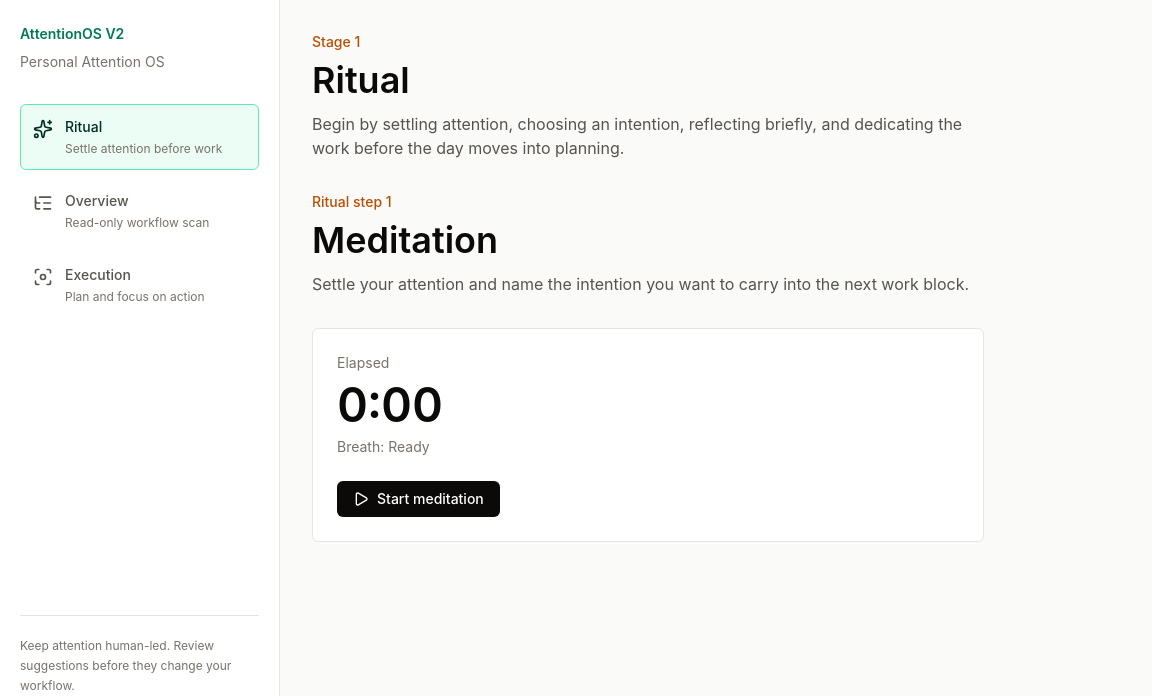
Scenario: RitualPage workflow › finishes dedication and transitions to overview
Click the button "Start meditation": (418, 499) [337, 481, 500, 517]
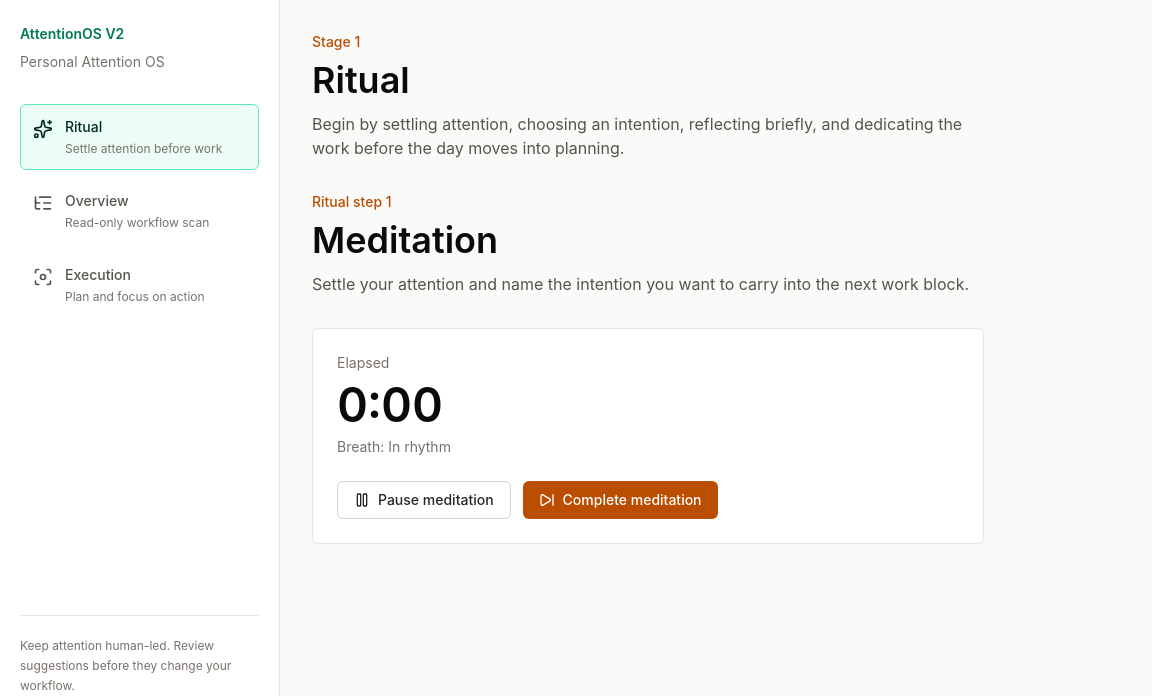
Click the button "Complete meditation": (620, 500) [523, 481, 718, 519]
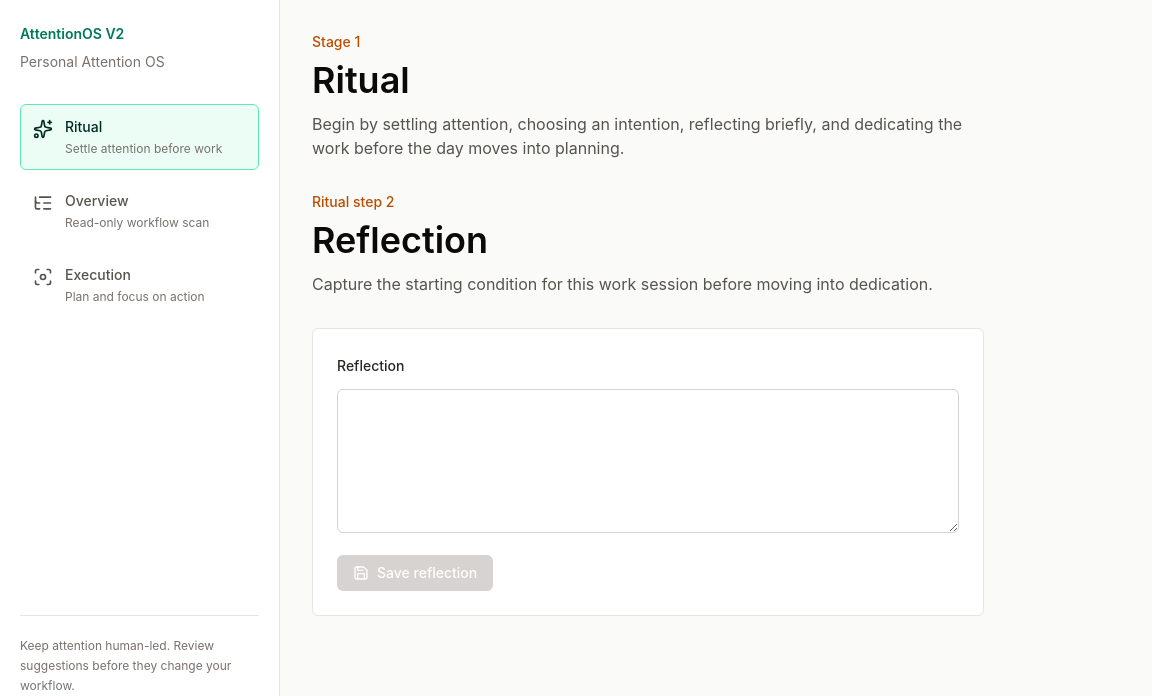
Expected: the heading "Reflection" is shown, [312, 218, 488, 262]
In the text box labelled "Reflection": (648, 461) [337, 389, 959, 533], type "Move deliberately."
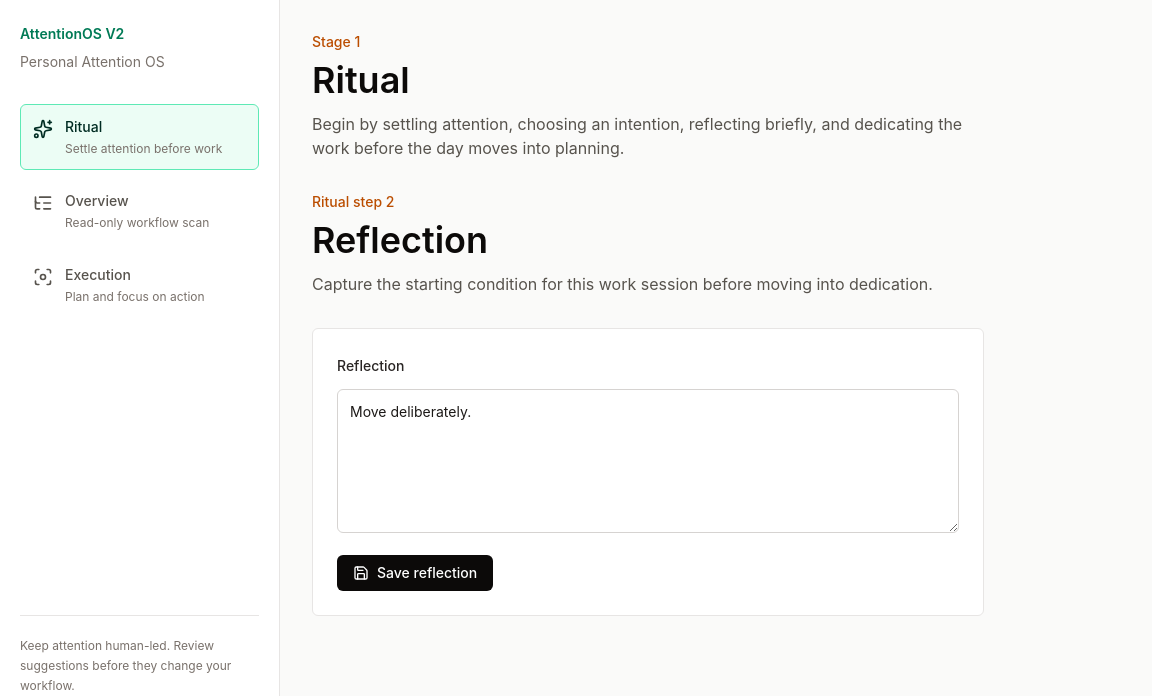
Click the button "Save reflection": (415, 573) [337, 555, 493, 591]
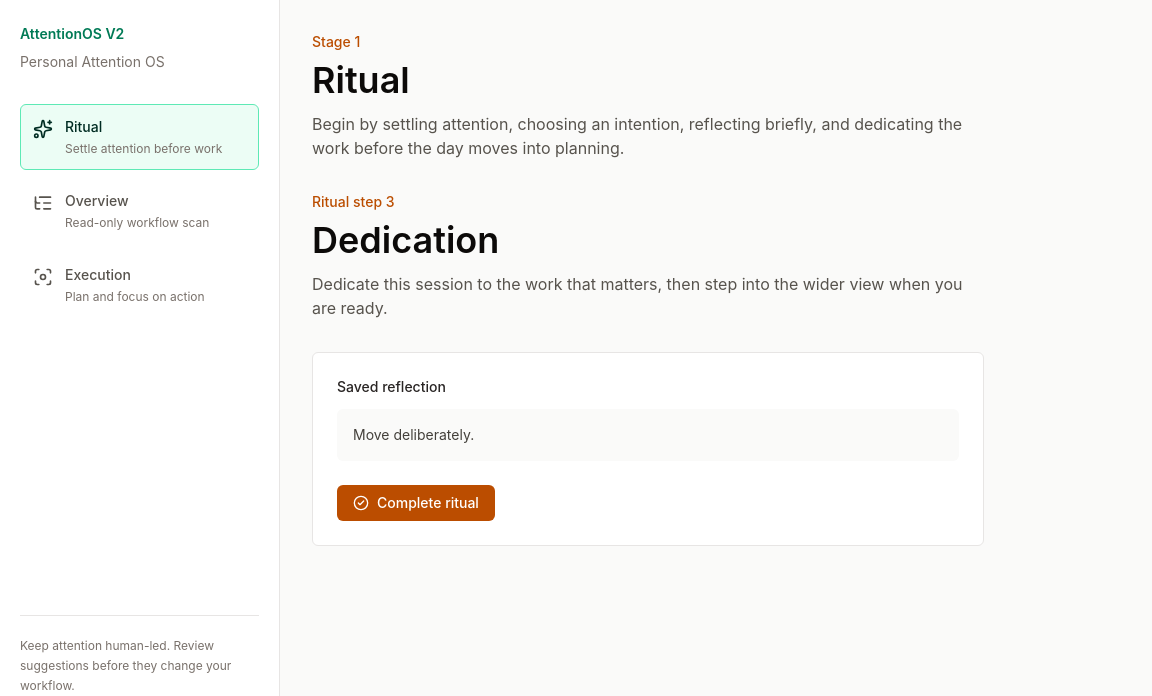
Expected: the heading "Dedication" is shown, [312, 218, 499, 262]
Click the button "Complete ritual": (416, 503) [337, 485, 495, 521]
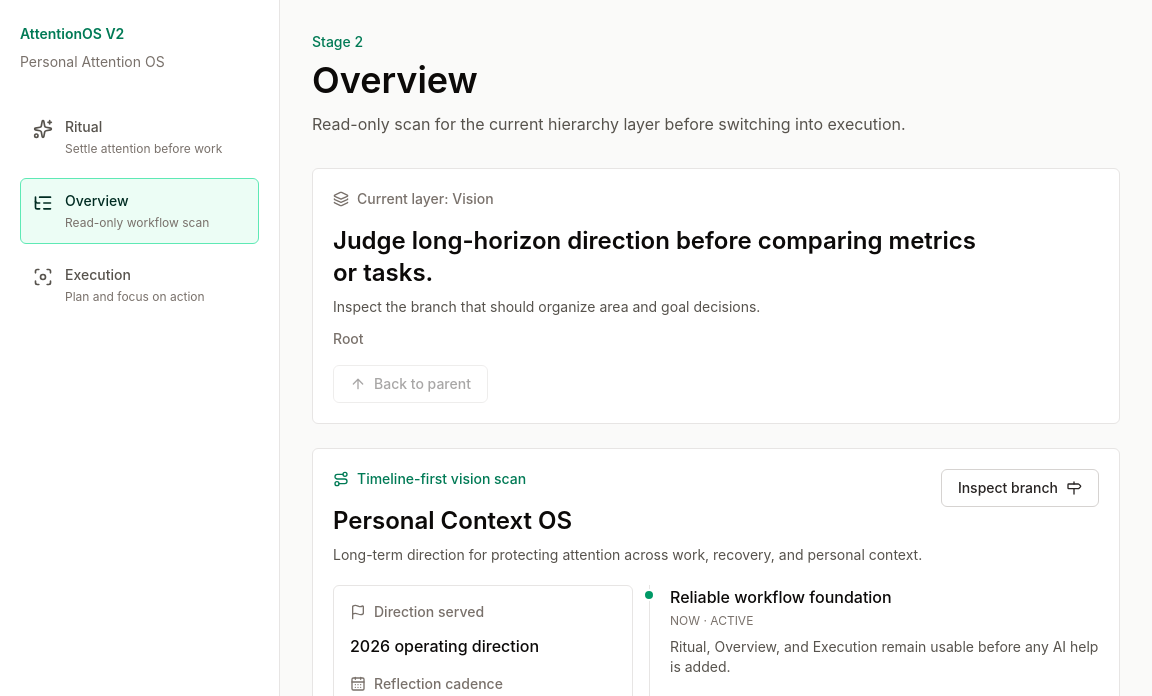
Expected: the heading "Overview" is shown, [312, 58, 478, 102]
